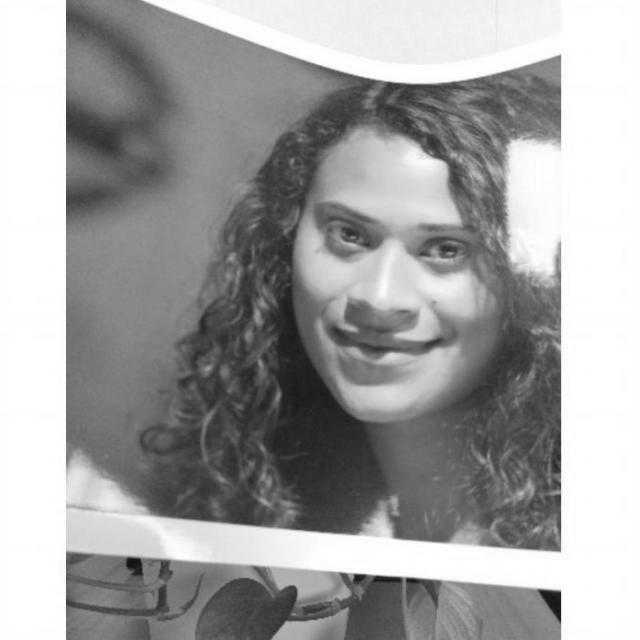fake: (65, 0, 559, 613)
